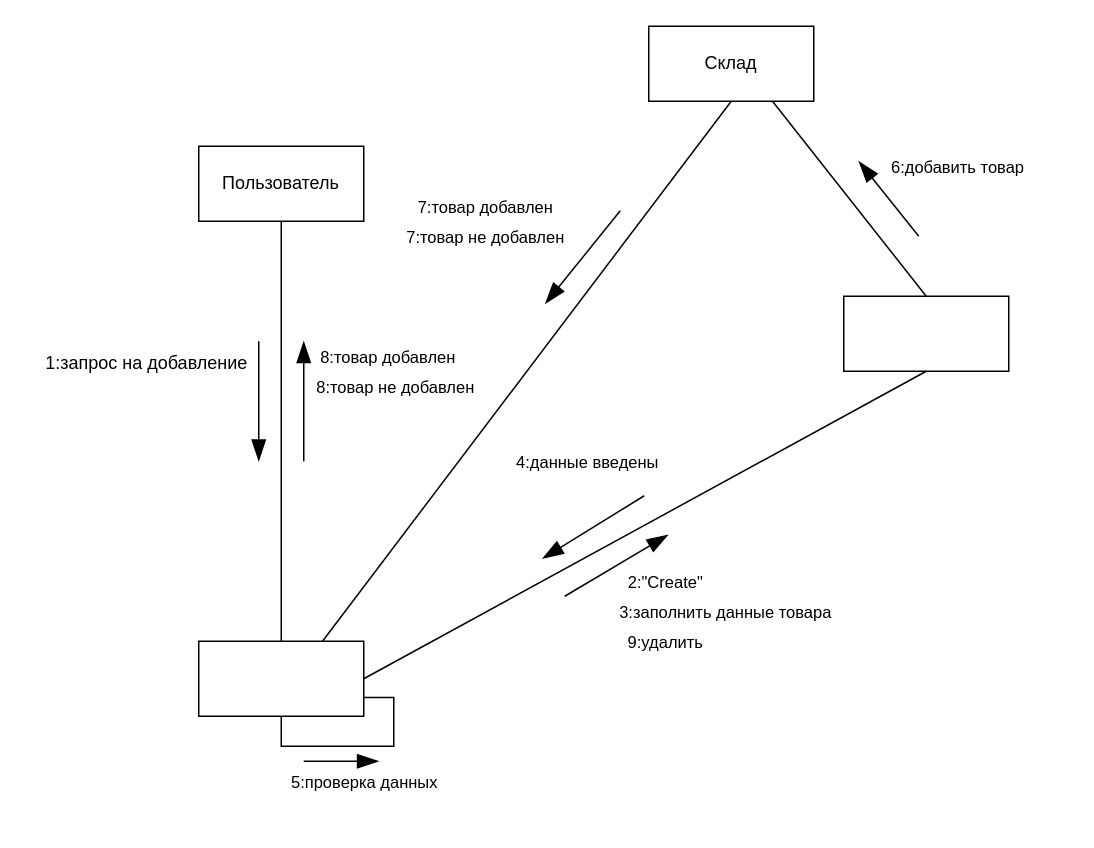
This 1094x848 diagram has some shape labels left out. The centre of each missing label's shape, as x and y in pixels:
Система: pixel 280 678
Товар: pixel 925 333
